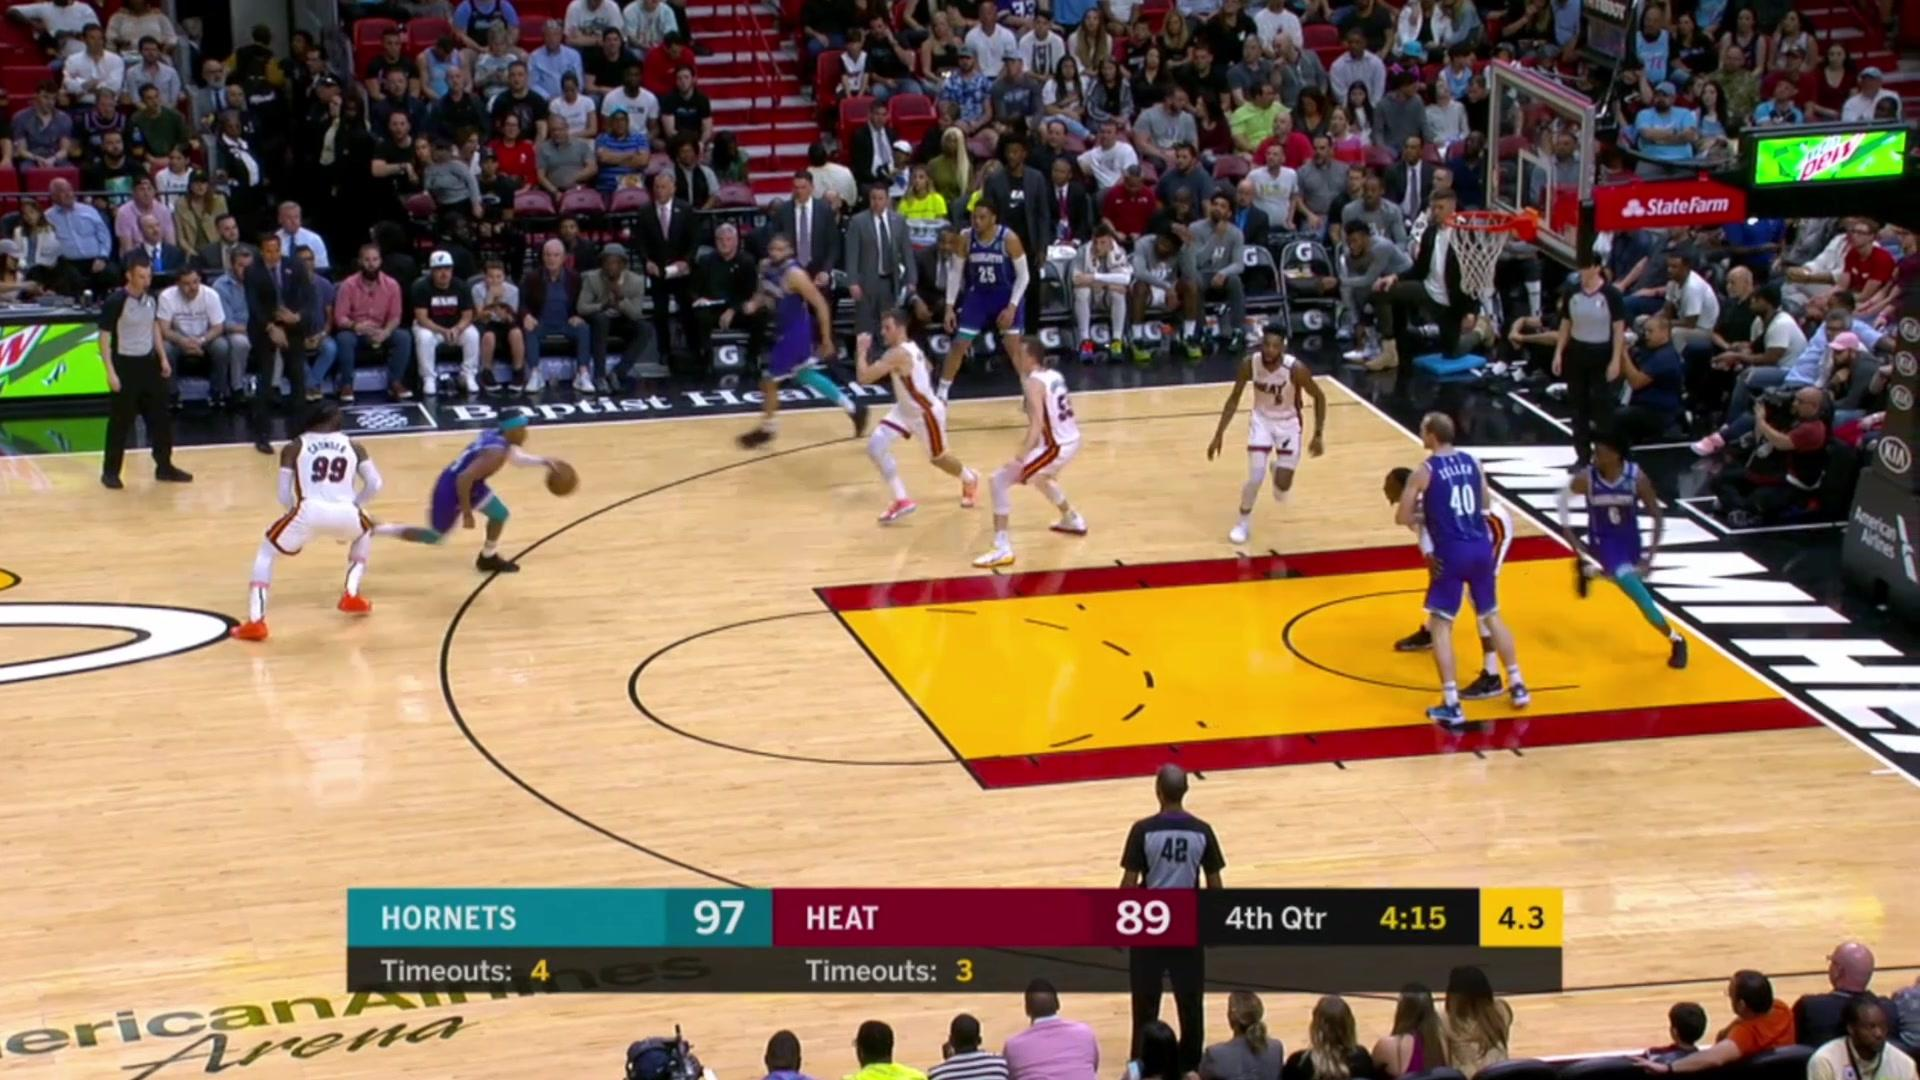no_foul: (1369, 398, 1530, 740)
